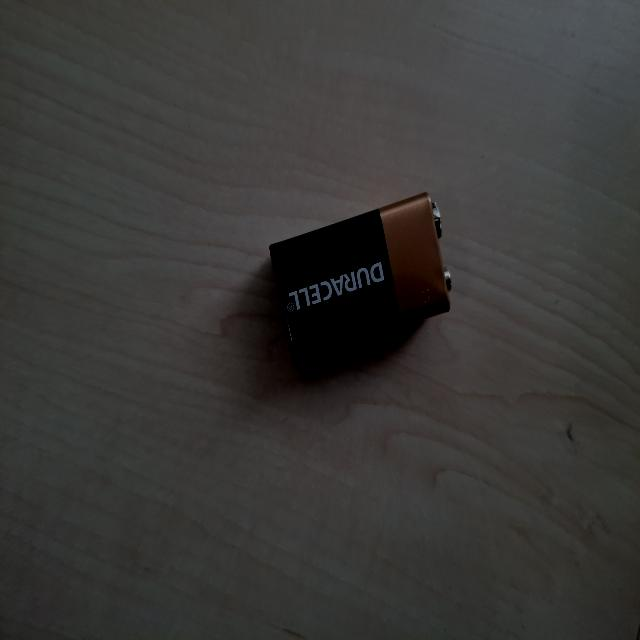9V: (142, 253, 275, 493)
